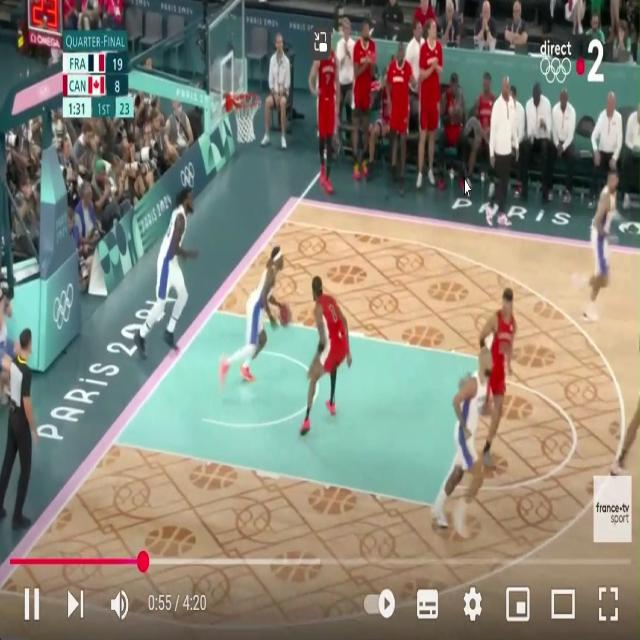ball_handler: (239, 248, 290, 376)
